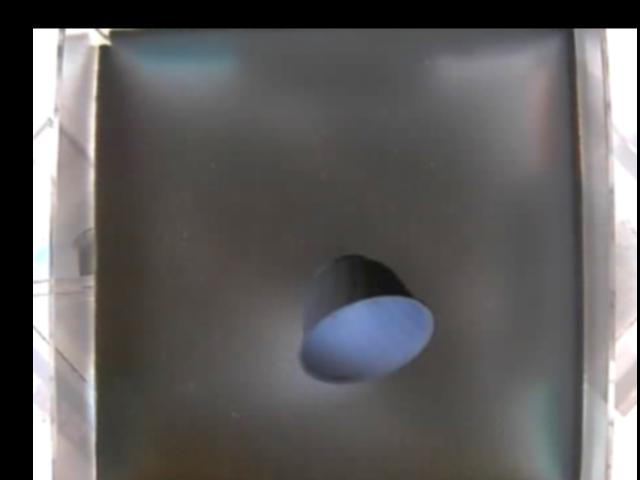Cup: (300, 254, 432, 385)
